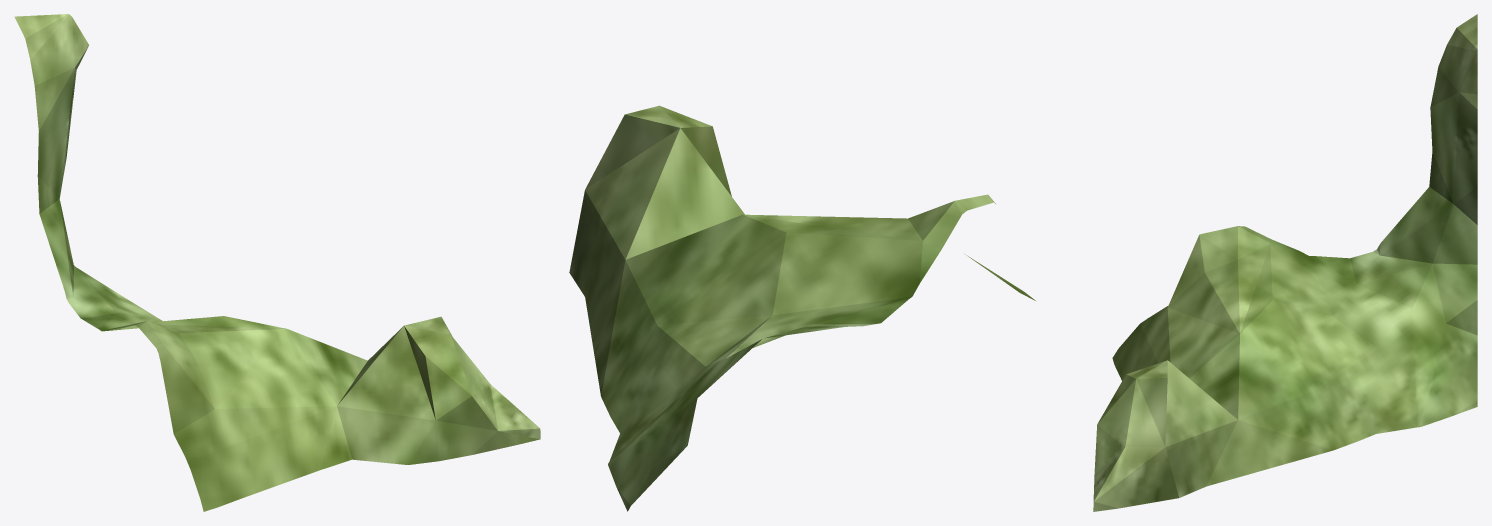
The picture shows the model from 3 angles, left to right: view 1: azimuth 30°, elevation 25°; view 2: azimuth 150°, elevation 25°; view 3: azimuth 270°, elevation 25°; orthographic projection. The views are drawn at different scales.
Size of the model in its own units: 0.8031 by 0.837 by 0.8469.
Materials: 1 (1 with a texture image).
